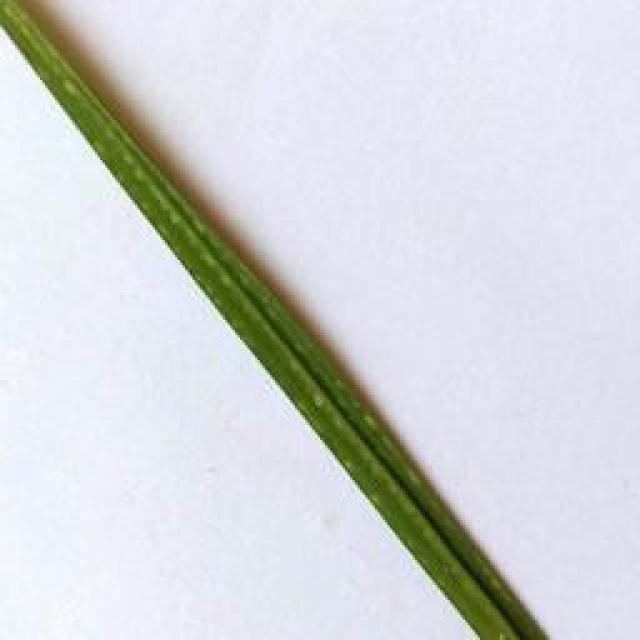Healthy-Plant: (3, 7, 548, 640)
